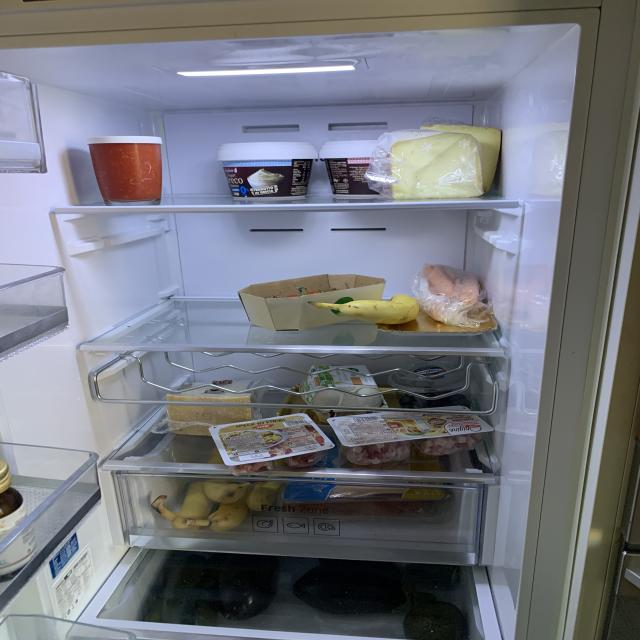aubergine: (290, 566, 436, 613), (214, 556, 278, 620)
avocado: (403, 601, 468, 640)
bacon: (340, 440, 412, 465), (418, 436, 481, 457), (286, 453, 324, 469), (228, 462, 274, 474)
banana: (154, 450, 282, 533), (310, 294, 418, 325)
blueberries: (396, 391, 462, 408)
carrots: (418, 266, 486, 324)
courgettes: (147, 557, 218, 627)
eggs: (300, 366, 386, 422)
ham: (292, 502, 428, 516), (332, 482, 414, 496)
mid_seasoned_cheese: (378, 130, 484, 199), (423, 123, 502, 195)
parmesan_cheese: (166, 380, 258, 436)
tomato_sauce: (89, 144, 162, 201)
yoghurt: (217, 144, 318, 200), (320, 141, 380, 197)
